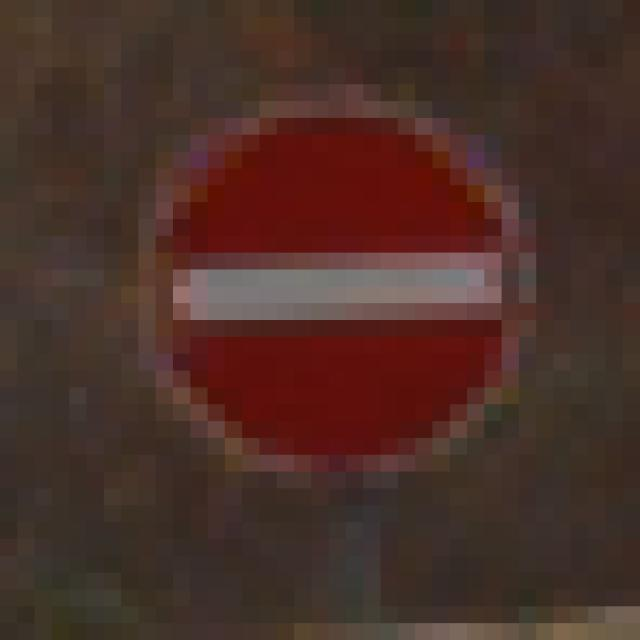No Entry: (88, 102, 537, 557)
